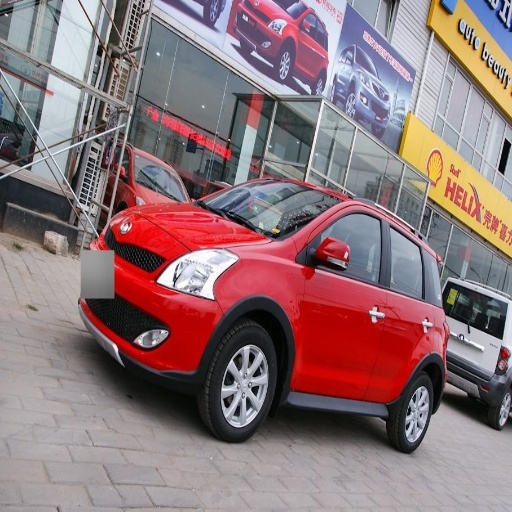front_glass: (200, 183, 324, 237)
front_left_door: (301, 205, 386, 397)
